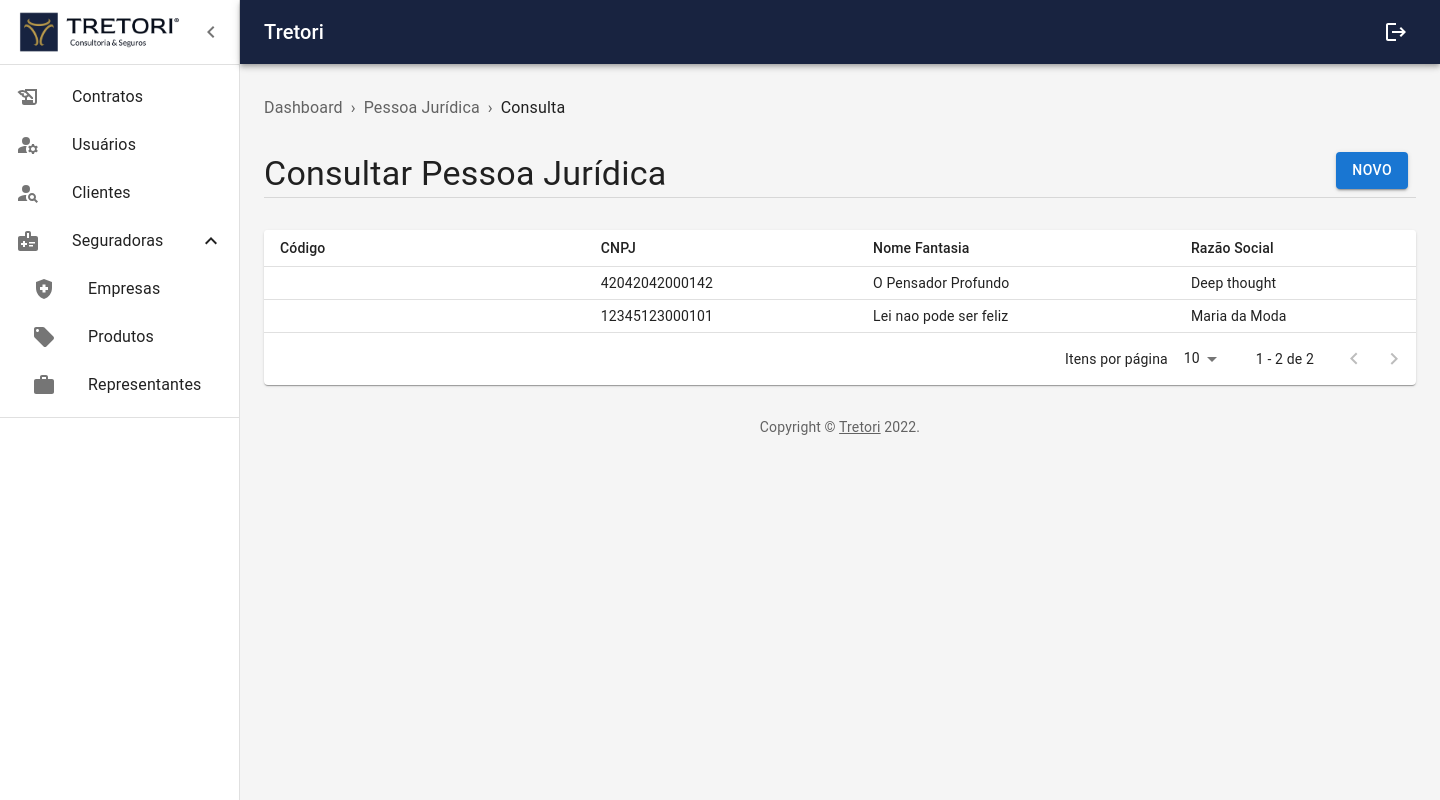
Scenario: Customer - Legal person › should delete an existing legal person
This screenshot has width=1440, height=800.
Click the cell with id "0-cnpj" at (721, 284), box [585,267,857,300]
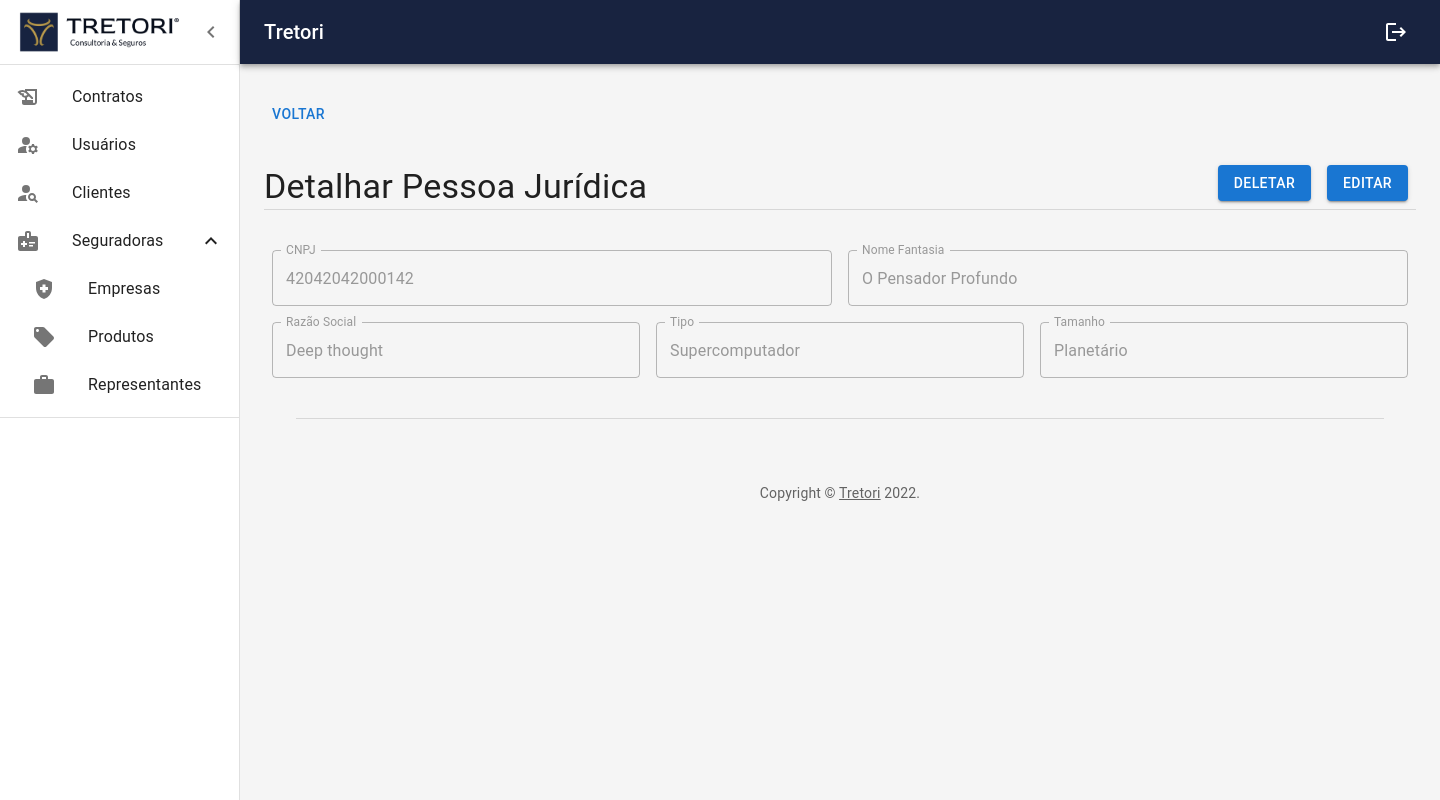
Click the button with id "deleteBtn" at (1265, 184), box [1218,165,1311,202]
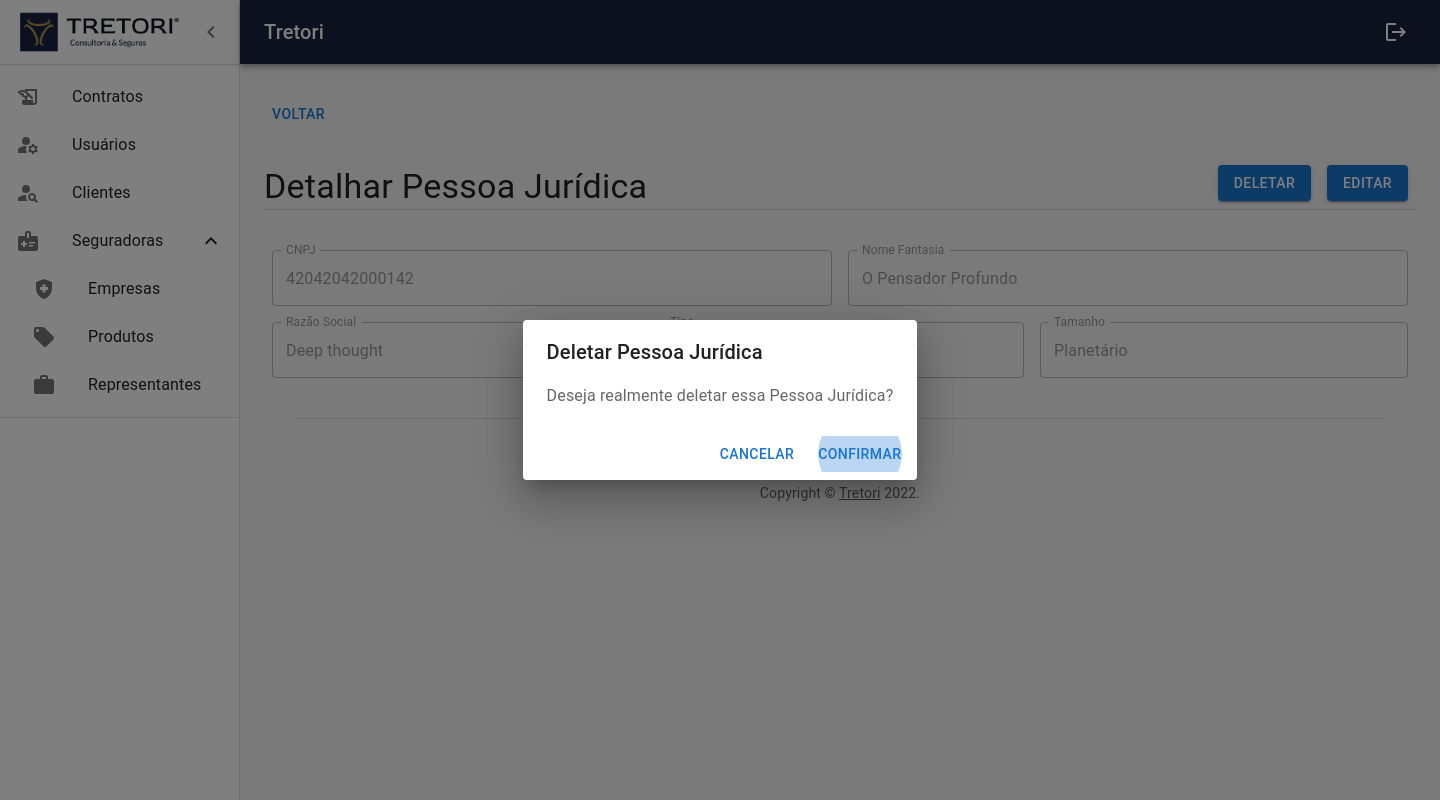
Click the button with id "dialog-confirm-btn" at (860, 455), box [810,436,909,473]
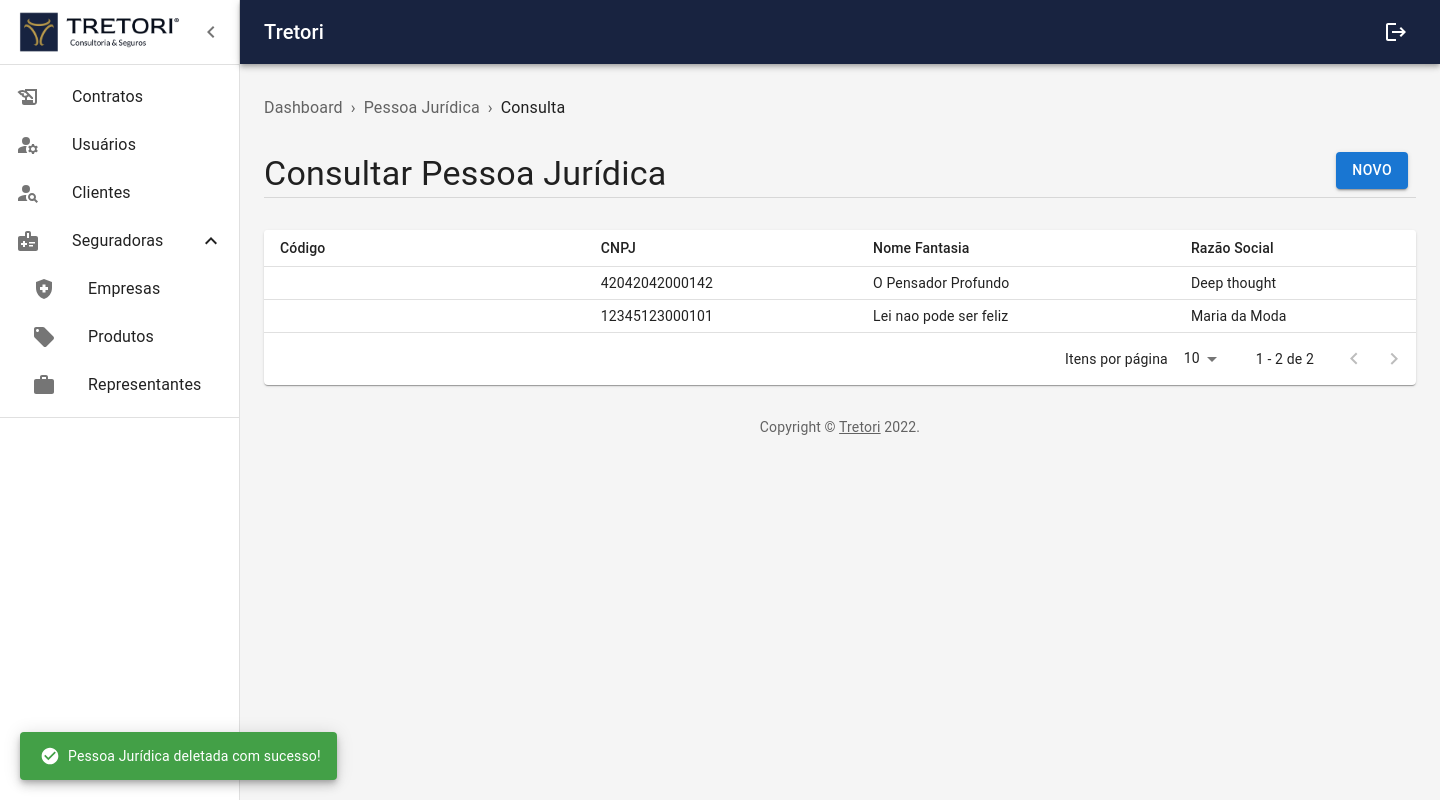
Check: the element with id "notistack-snackbar" reads "Pessoa Jurídica deletada com sucesso!", box [40,746,321,766]
